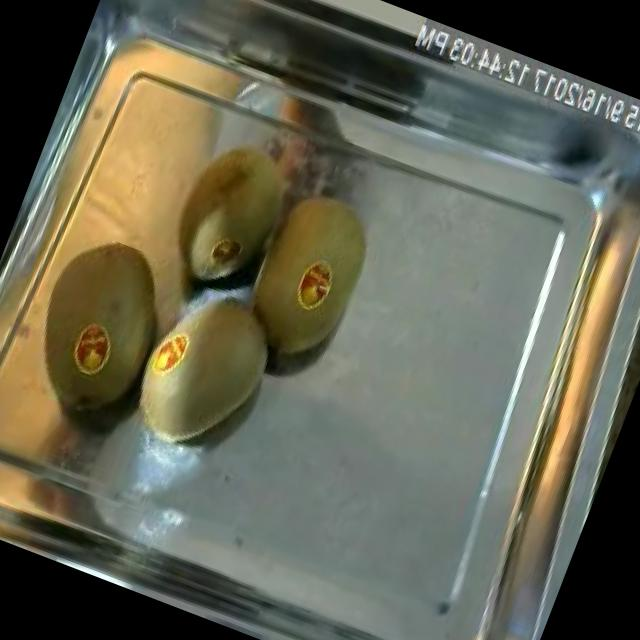Fruit: (112, 262, 300, 478), (220, 169, 396, 383), (54, 307, 128, 388)
